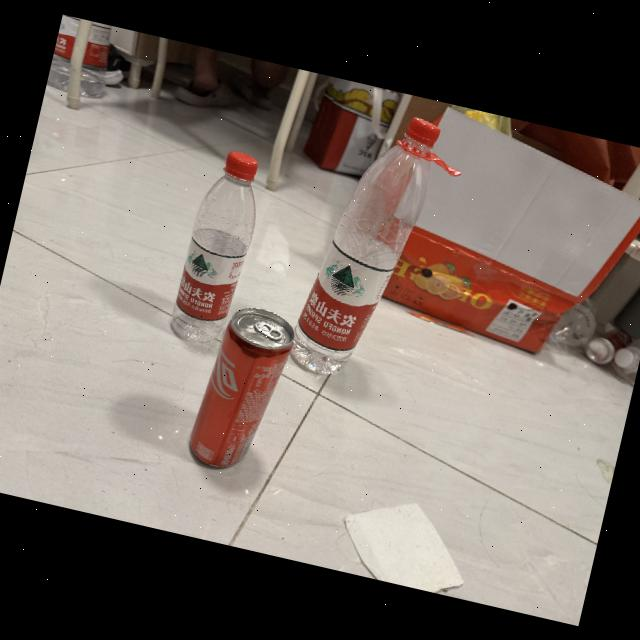Cola: (178, 296, 301, 482)
